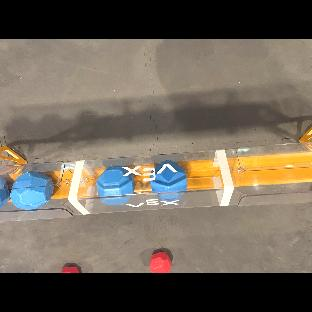V5_RED: (147, 252, 172, 273), (59, 266, 80, 273)
blueingoal: (8, 168, 58, 211), (151, 158, 190, 203), (94, 168, 134, 203), (0, 173, 8, 211)
